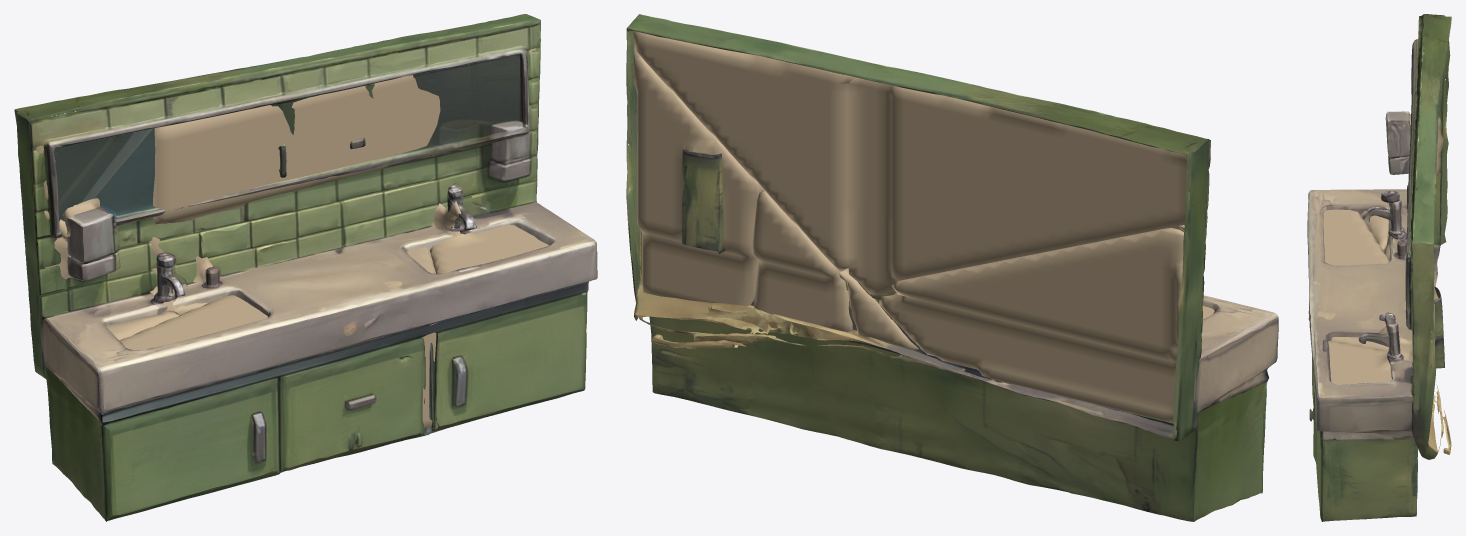
File: sinks_chunks.glb
3 renders of one model, left to right at view 1: azimuth 30°, elevation 25°; view 2: azimuth 150°, elevation 25°; view 3: azimuth 270°, elevation 25°, orthographic. The views are drawn at different scales.
Parts seen in each view (by area): view 1: chunk1_shell, chunk0_shell, chunk1_core, chunk3_shell, chunk5_shell, chunk4_shell, chunk2_shell, chunk0_core, chunk5_core, chunk2_core, chunk4_core; view 2: chunk1_core, chunk5_core, chunk5_shell, chunk0_core, chunk0_shell, chunk1_shell, chunk3_shell, chunk2_shell, chunk2_core, chunk4_shell, chunk3_core; view 3: chunk0_shell, chunk1_shell, chunk1_core, chunk0_core, chunk5_shell, chunk2_shell, chunk3_shell, chunk4_shell, chunk4_core, chunk5_core, chunk2_core.
Boxes of the visible parts, x1=… form: chunk1_shell: x1=14, y1=14, x2=540, y2=457; chunk0_shell: x1=417, y1=35, x2=597, y2=425; chunk1_core: x1=35, y1=49, x2=478, y2=350; chunk3_shell: x1=190, y1=233, x2=409, y2=498; chunk5_shell: x1=18, y1=148, x2=273, y2=494; chunk4_shell: x1=22, y1=169, x2=228, y2=521; chunk2_shell: x1=352, y1=165, x2=455, y2=448; chunk0_core: x1=430, y1=48, x2=548, y2=273; chunk5_core: x1=45, y1=237, x2=212, y2=314; chunk2_core: x1=407, y1=247, x2=437, y2=428; chunk4_core: x1=44, y1=210, x2=180, y2=340; chunk1_core: x1=633, y1=31, x2=1214, y2=319; chunk5_core: x1=879, y1=228, x2=1183, y2=423; chunk5_shell: x1=872, y1=194, x2=1232, y2=521; chunk0_core: x1=633, y1=50, x2=763, y2=306; chunk0_shell: x1=626, y1=42, x2=756, y2=414; chunk1_shell: x1=626, y1=14, x2=1278, y2=383; chunk3_shell: x1=845, y1=281, x2=1061, y2=490; chunk2_shell: x1=722, y1=281, x2=883, y2=449; chunk2_core: x1=752, y1=190, x2=852, y2=332; chunk4_shell: x1=1195, y1=210, x2=1266, y2=504; chunk3_core: x1=839, y1=270, x2=918, y2=349; chunk0_shell: x1=1310, y1=254, x2=1451, y2=521; chunk1_shell: x1=1307, y1=14, x2=1451, y2=313; chunk1_core: x1=1323, y1=114, x2=1410, y2=265; chunk0_core: x1=1328, y1=286, x2=1438, y2=385; chunk5_shell: x1=1388, y1=49, x2=1450, y2=286; chunk2_shell: x1=1309, y1=318, x2=1446, y2=463; chunk3_shell: x1=1308, y1=305, x2=1405, y2=421; chunk4_shell: x1=1354, y1=155, x2=1409, y2=237; chunk4_core: x1=1360, y1=211, x2=1388, y2=252; chunk5_core: x1=1384, y1=117, x2=1443, y2=260; chunk2_core: x1=1331, y1=337, x2=1388, y2=350.
Size of the model in its own units: 2.8 by 1.89 by 0.8.
1 material, 1 textured.
